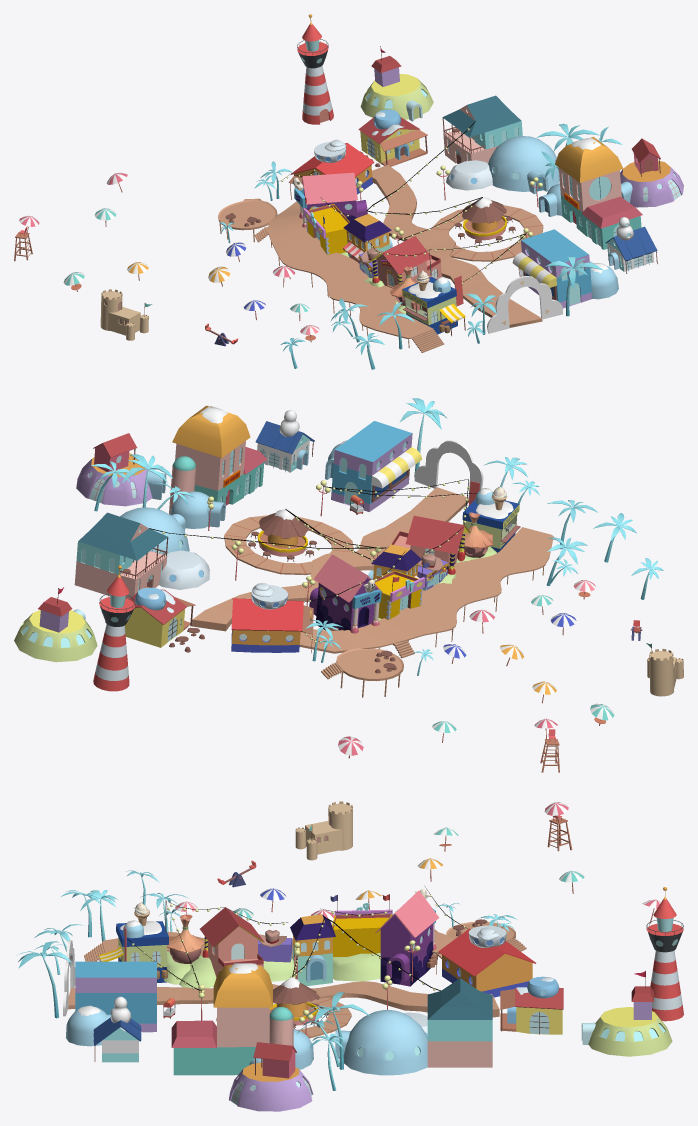
The model's file is Neighborhood_BowlCutBeach_03.fbx.
3 renders of one model, top to bottom at view 1: azimuth 30°, elevation 25°; view 2: azimuth 150°, elevation 25°; view 3: azimuth 270°, elevation 25°, orthographic. The views are drawn at different scales.
Visible parts, largest first — view 1: Bowlcut; view 2: Bowlcut; view 3: Bowlcut.
Boxes of the visible parts, bbox=[...] form: Bowlcut: bbox=[14, 14, 683, 369]; Bowlcut: bbox=[14, 398, 683, 772]; Bowlcut: bbox=[16, 801, 683, 1111].
Bounding box in the file's own units: 5657 × 1325 × 5099.
